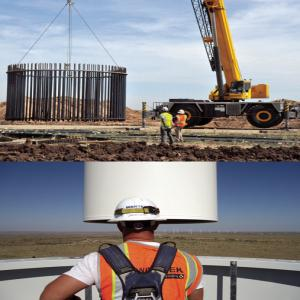white: (110, 195, 165, 240), (161, 107, 169, 114), (178, 111, 186, 117)
